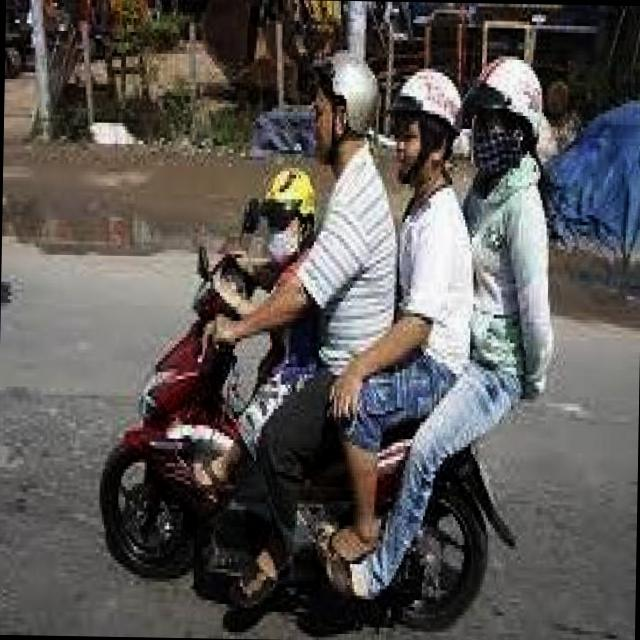motorcycle: (92, 244, 523, 640)
person: (402, 45, 560, 488), (364, 62, 478, 474), (297, 45, 394, 425), (220, 158, 320, 483)
rider_region: (96, 44, 560, 630)
